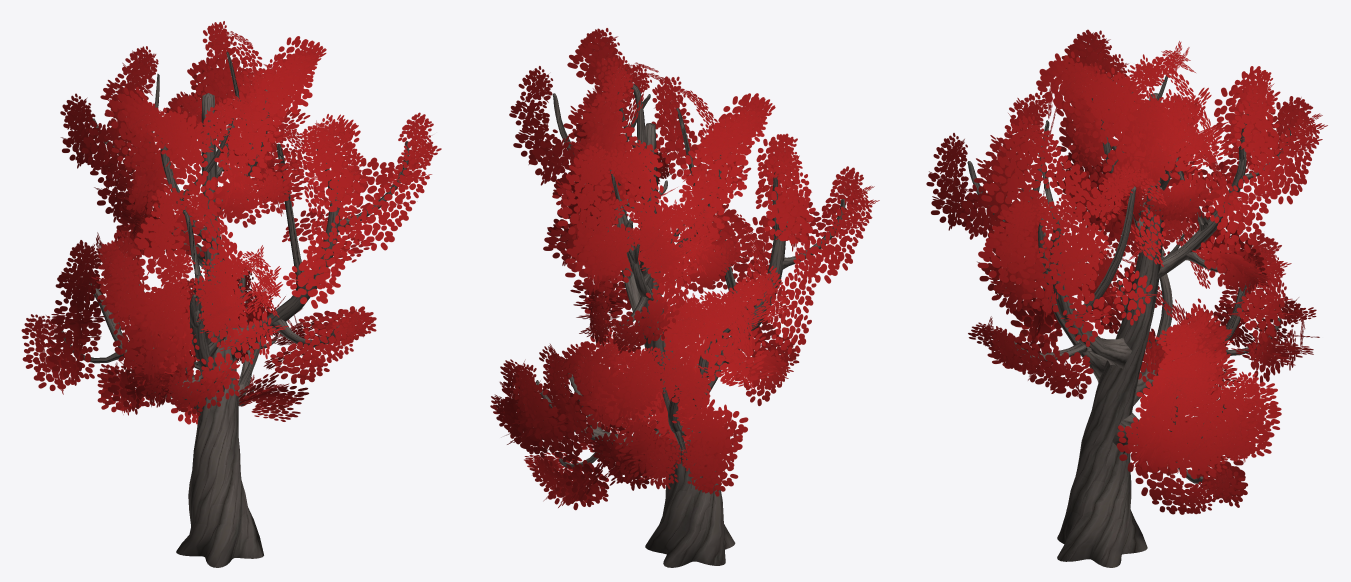
Rendered from forest_twisted_c.glb.
The picture shows the model from 3 angles, left to right: view 1: azimuth 30°, elevation 25°; view 2: azimuth 150°, elevation 25°; view 3: azimuth 270°, elevation 25°; orthographic projection. The views are drawn at different scales.
Visible parts, largest first — view 1: TwistedTree_3; view 2: TwistedTree_3; view 3: TwistedTree_3.
Part boxes in pixels (bbox=[...]): TwistedTree_3: bbox=[21, 21, 441, 567]; TwistedTree_3: bbox=[490, 28, 879, 567]; TwistedTree_3: bbox=[926, 29, 1327, 567].
Bounding box in the file's own units: 11.36 × 16.07 × 11.51.
Materials: 2 (2 with a texture image).
